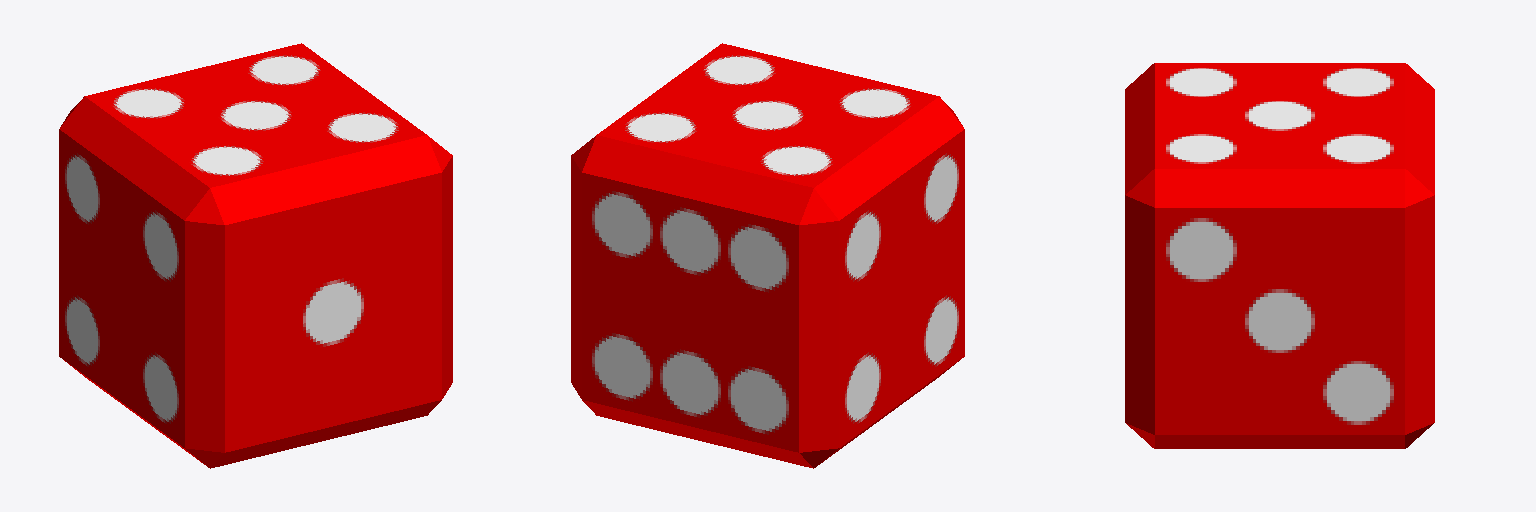
3 views of the same model, side by side, from view 1: azimuth 30°, elevation 25°; view 2: azimuth 150°, elevation 25°; view 3: azimuth 270°, elevation 25° (orthographic).
Visible parts, largest first — view 1: Cube; view 2: Cube; view 3: Cube.
Part boxes in pixels (x1,y1,x2,y2): Cube: (59, 43, 452, 468); Cube: (571, 43, 964, 468); Cube: (1125, 63, 1434, 448).
Bounding box in the file's own units: 2 × 2 × 2.
Materials: 7 (7 with a texture image).